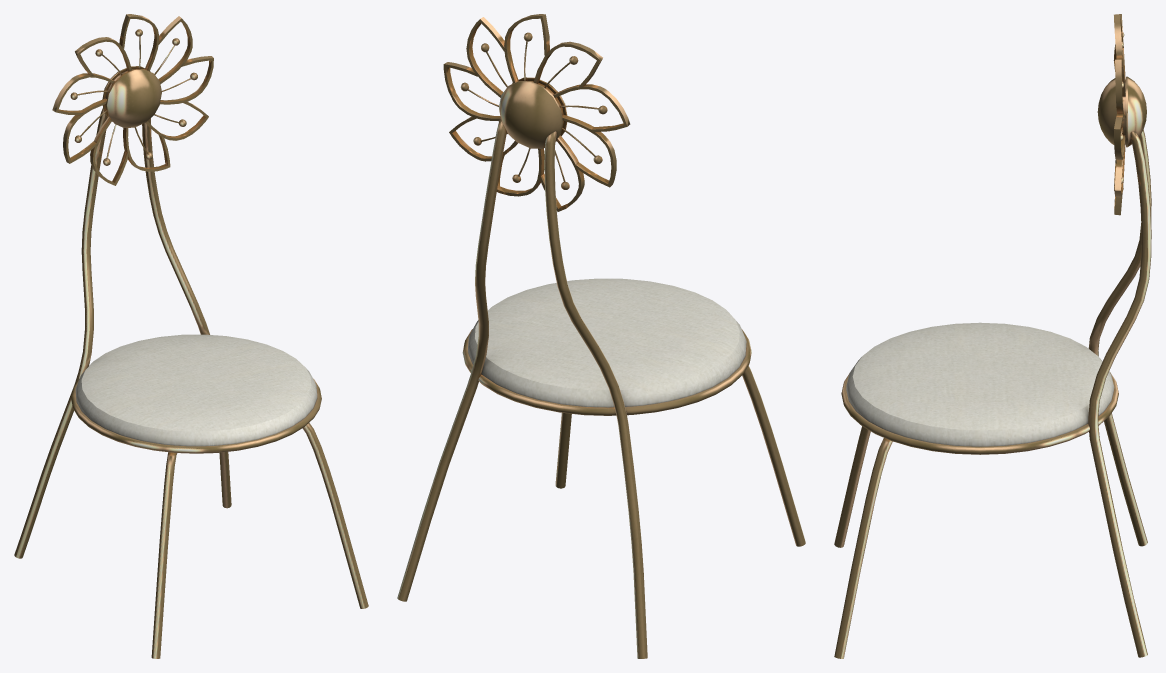
Rendered from raw_model.obj.
3 views of the same model, side by side, from view 1: azimuth 30°, elevation 25°; view 2: azimuth 150°, elevation 25°; view 3: azimuth 270°, elevation 25° (orthographic). The views are drawn at different scales.
Parts seen in each view (by area): view 1: solid_001, solid_002; view 2: solid_002, solid_001; view 3: solid_001, solid_002.
Part boxes in pixels (left/top/right/bottom): solid_001: left=75, top=334, right=317, bottom=446; solid_002: left=14, top=14, right=368, bottom=658; solid_002: left=397, top=14, right=805, bottom=658; solid_001: left=468, top=278, right=746, bottom=407; solid_001: left=846, top=322, right=1114, bottom=446; solid_002: left=834, top=14, right=1151, bottom=658.
Size of the model in its own units: 0.503 by 1.17 by 0.5747.
1 material, 1 textured.
